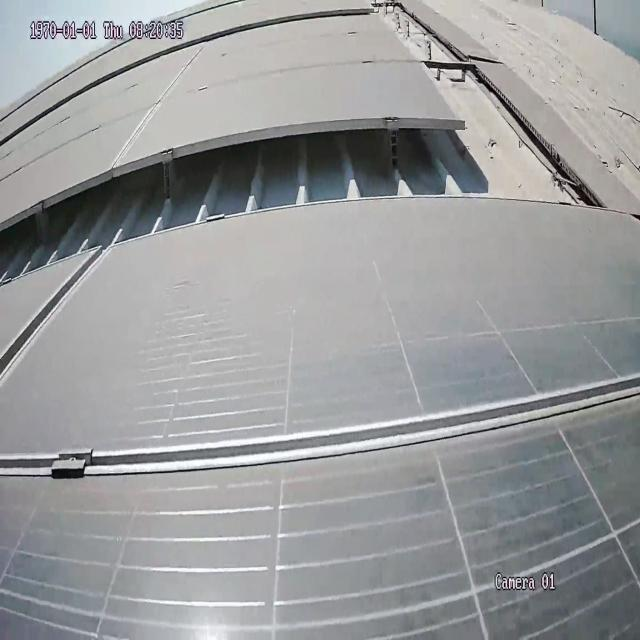interior panel: (0, 246, 640, 499), (103, 45, 206, 175)
outher panel: (1, 0, 640, 281), (0, 2, 379, 148), (0, 0, 254, 133), (2, 0, 212, 95)
